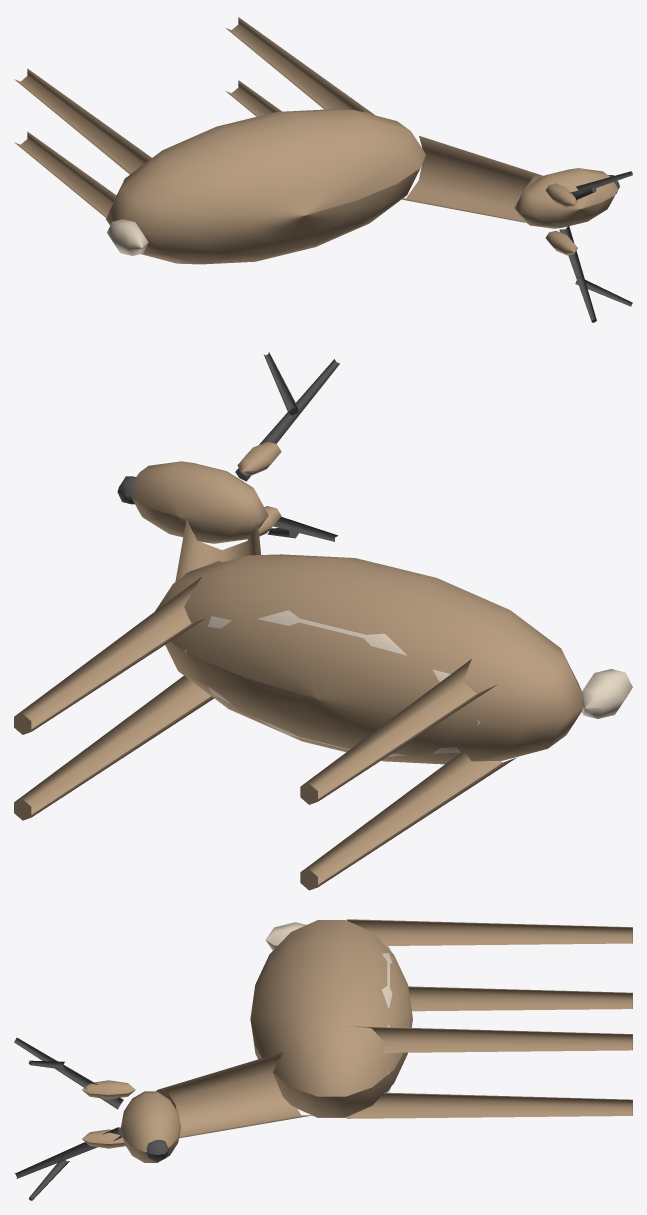
The model's file is deer.glb.
3 renders of one model, top to bottom at view 1: azimuth 30°, elevation 25°; view 2: azimuth 150°, elevation 25°; view 3: azimuth 270°, elevation 25°, orthographic. The views are drawn at different scales.
Size of the model in its own units: 1.75 by 0.5163 by 2.06.
